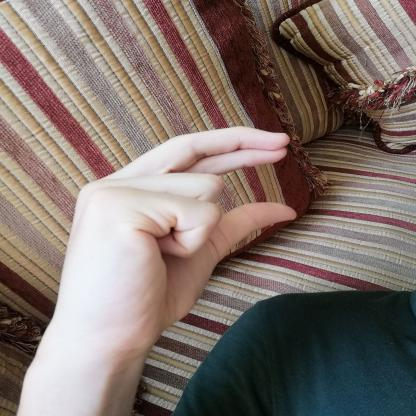DHELL: (51, 118, 310, 347)
